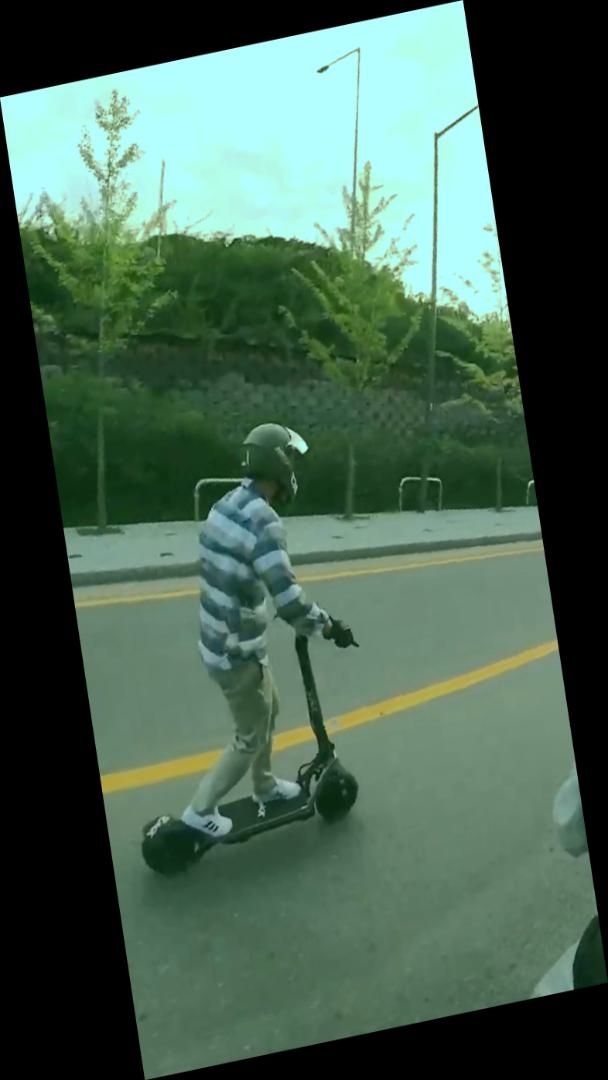helmet: (80, 405, 392, 887)
